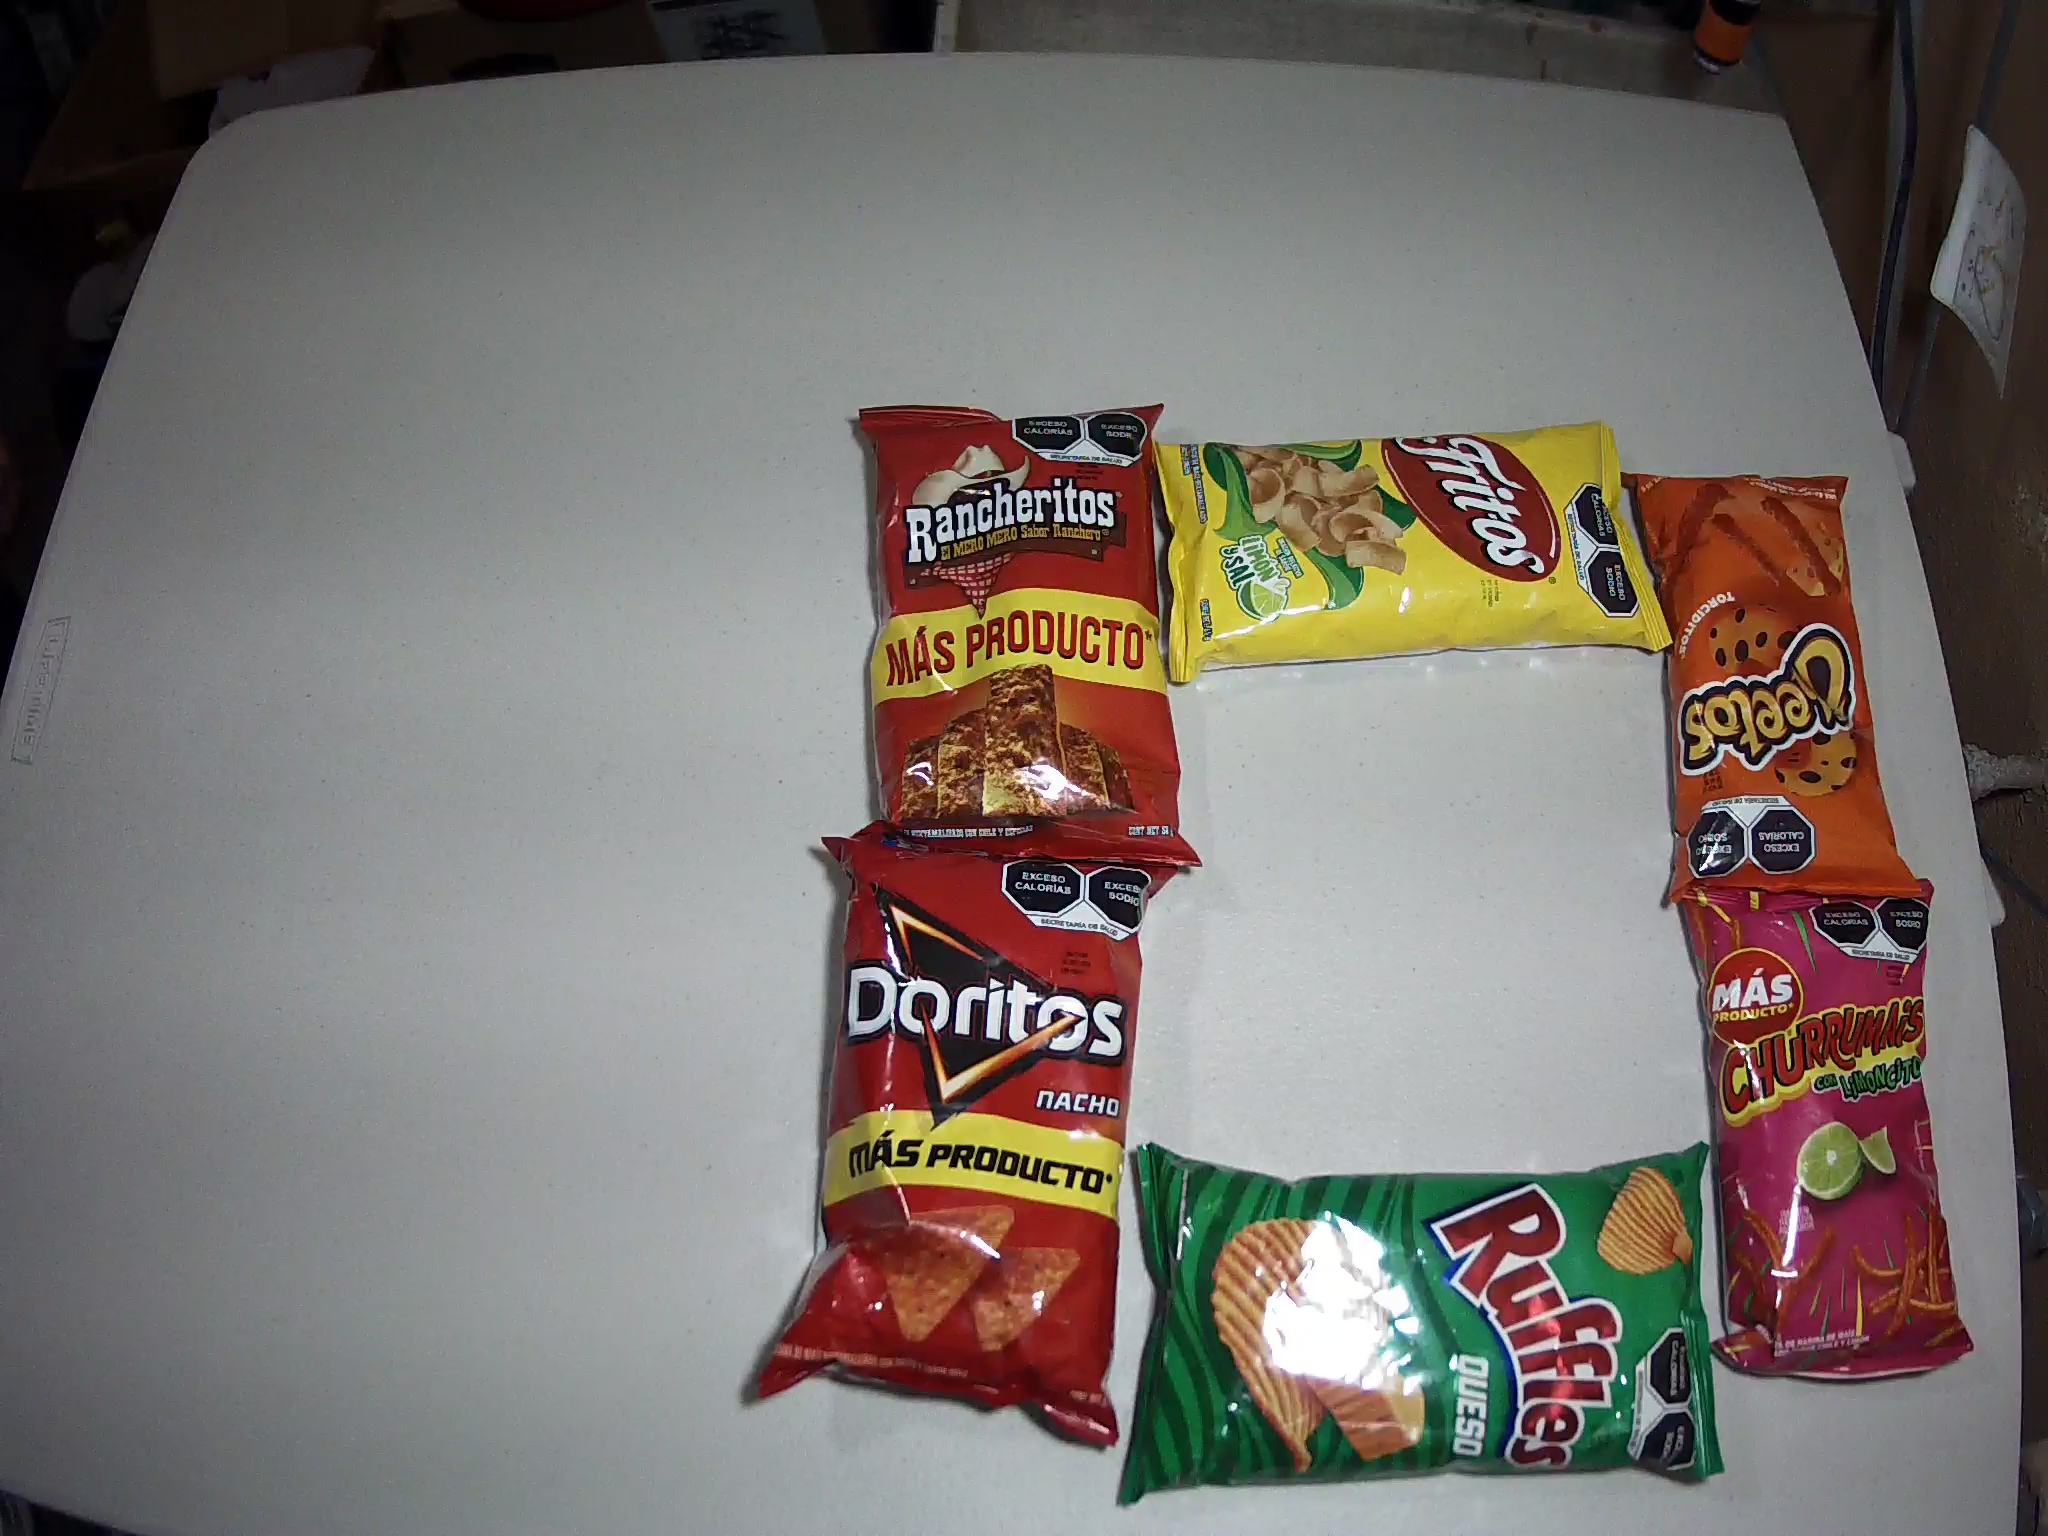CheetosTorciditos_55_F: (1616, 471, 1932, 912)
Churrumais_70_F: (1672, 883, 1977, 1384)
DoritosN_61_F: (756, 836, 1184, 1450)
FritosSalLimon_65_F: (1151, 419, 1675, 686)
Rancheritos_58_F: (847, 403, 1205, 871)
RufflesQ_48_F: (1121, 1139, 1729, 1505)
